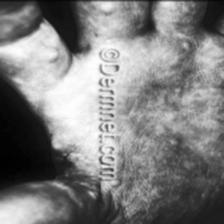Non-Cancerous Skin Condition: (65, 172, 101, 199), (109, 176, 127, 186), (54, 152, 69, 164)
